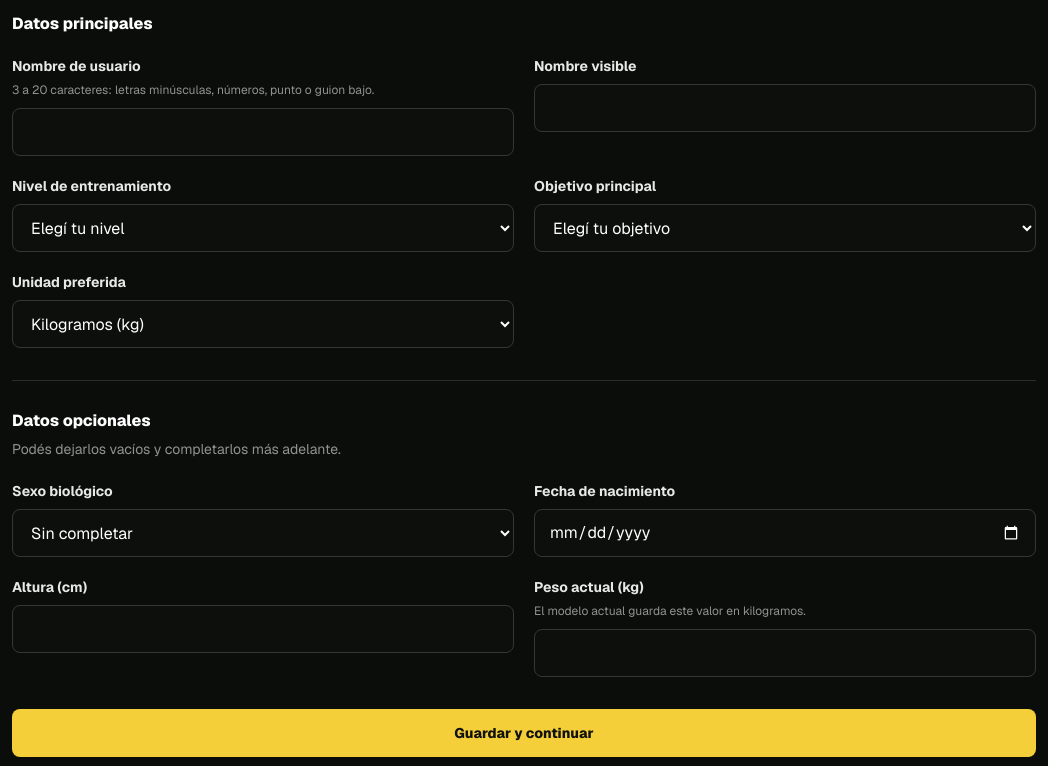
OnboardingForm › comunica un username inválido de forma accesible
Type "nombre malo" into the field labelled "Nombre de usuario".
click(263, 132); type("nombre malo")  # box [12,108,514,156]
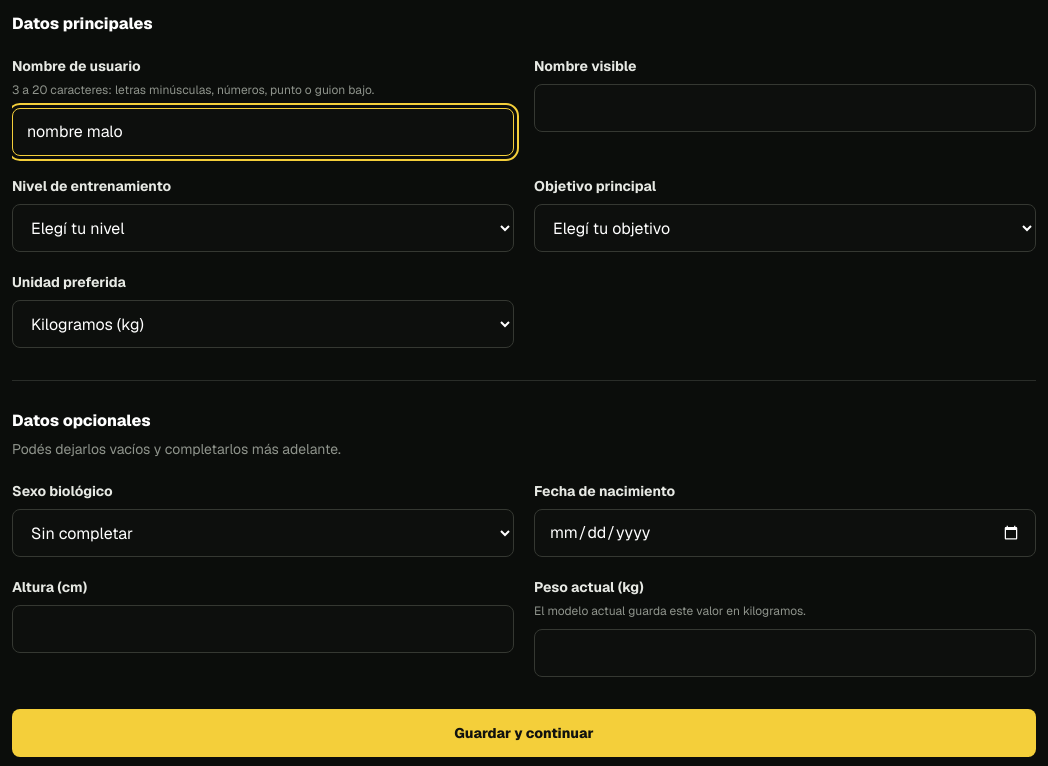
Click the button "Guardar y continuar".
click(524, 733)  # box [12,709,1036,757]
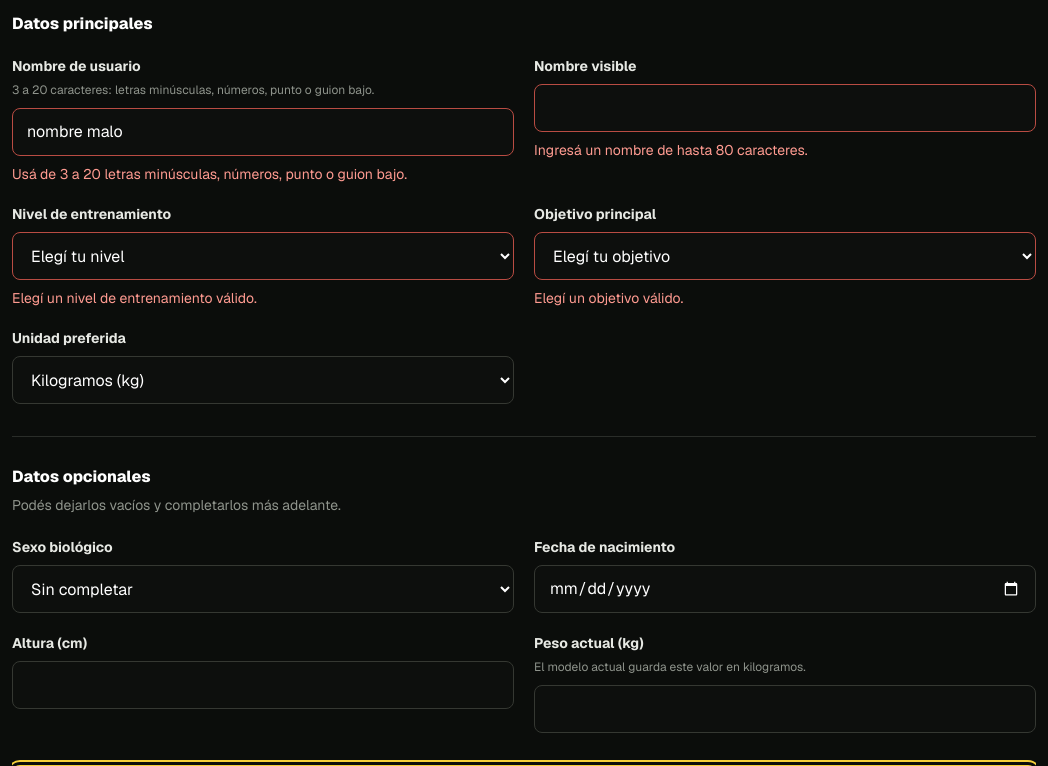
Expected: the text "Usá de 3 a 20 letras minúsculas, números, punto o guion bajo." is shown, [12,165,407,183]
